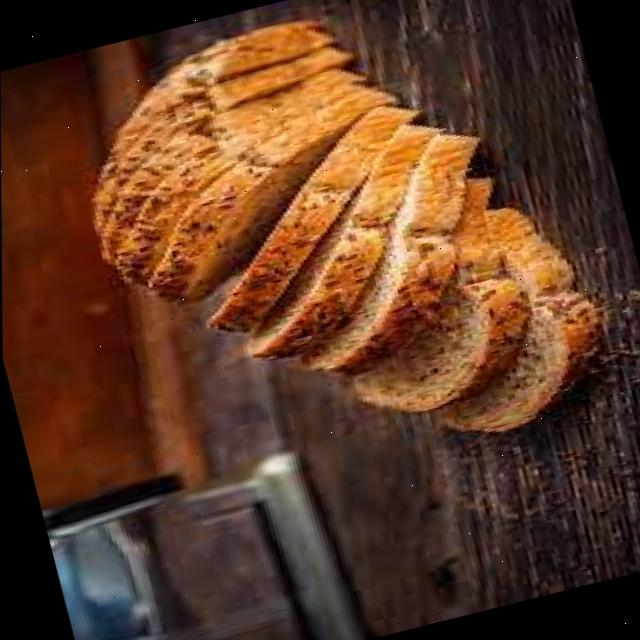Bread: (147, 83, 389, 300), (251, 124, 437, 357), (301, 132, 476, 369), (352, 276, 520, 411), (438, 289, 595, 430)
